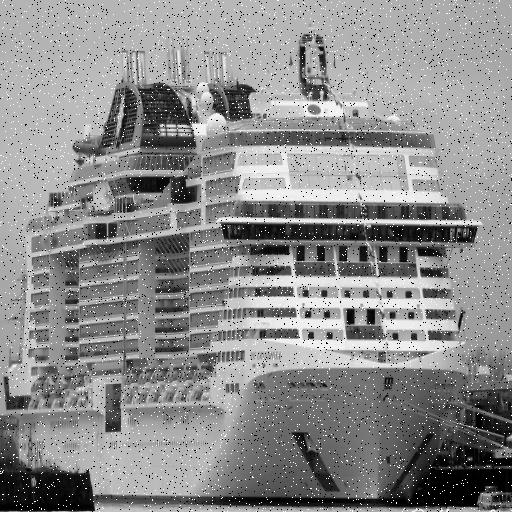cruises: (1, 27, 487, 512)
